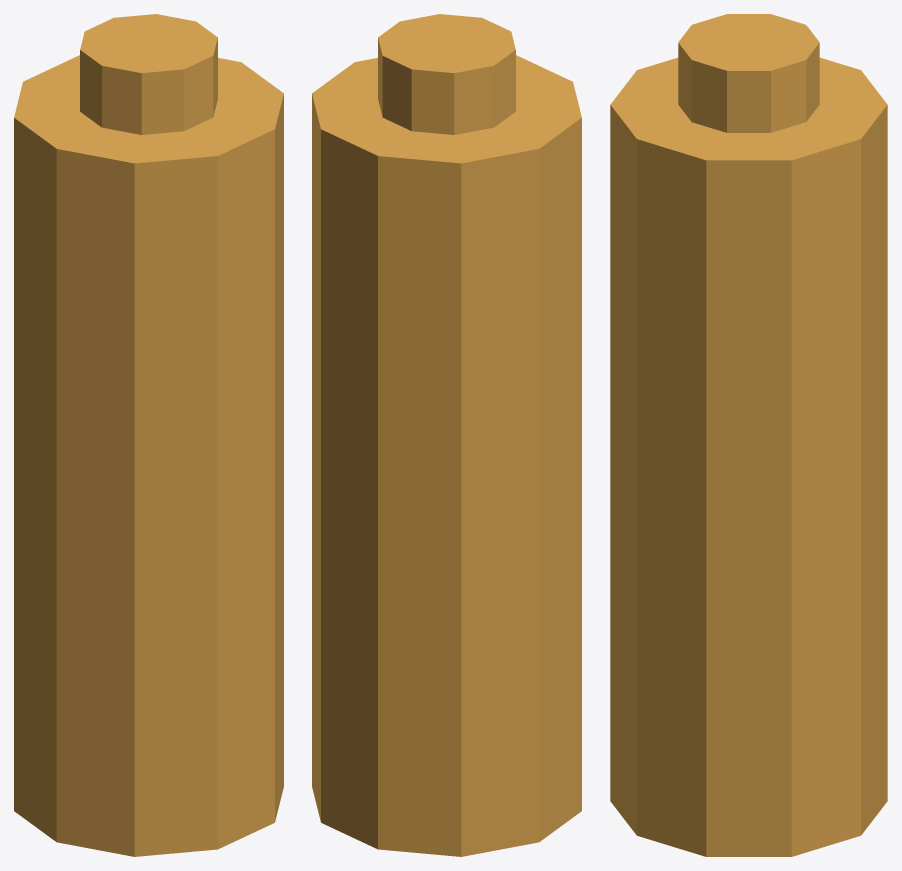
File: Doll_Battery.fbx
3 renders of one model, left to right at view 1: azimuth 30°, elevation 25°; view 2: azimuth 150°, elevation 25°; view 3: azimuth 270°, elevation 25°, orthographic.
Visible parts, largest first — view 1: Cylinder; view 2: Cylinder; view 3: Cylinder.
Part boxes in pixels (x1,y1,x2,y2): Cylinder: (14, 14, 283, 856); Cylinder: (312, 14, 581, 856); Cylinder: (610, 14, 887, 856).
Size of the model in its own units: 19.13 by 60.75 by 20.11.
